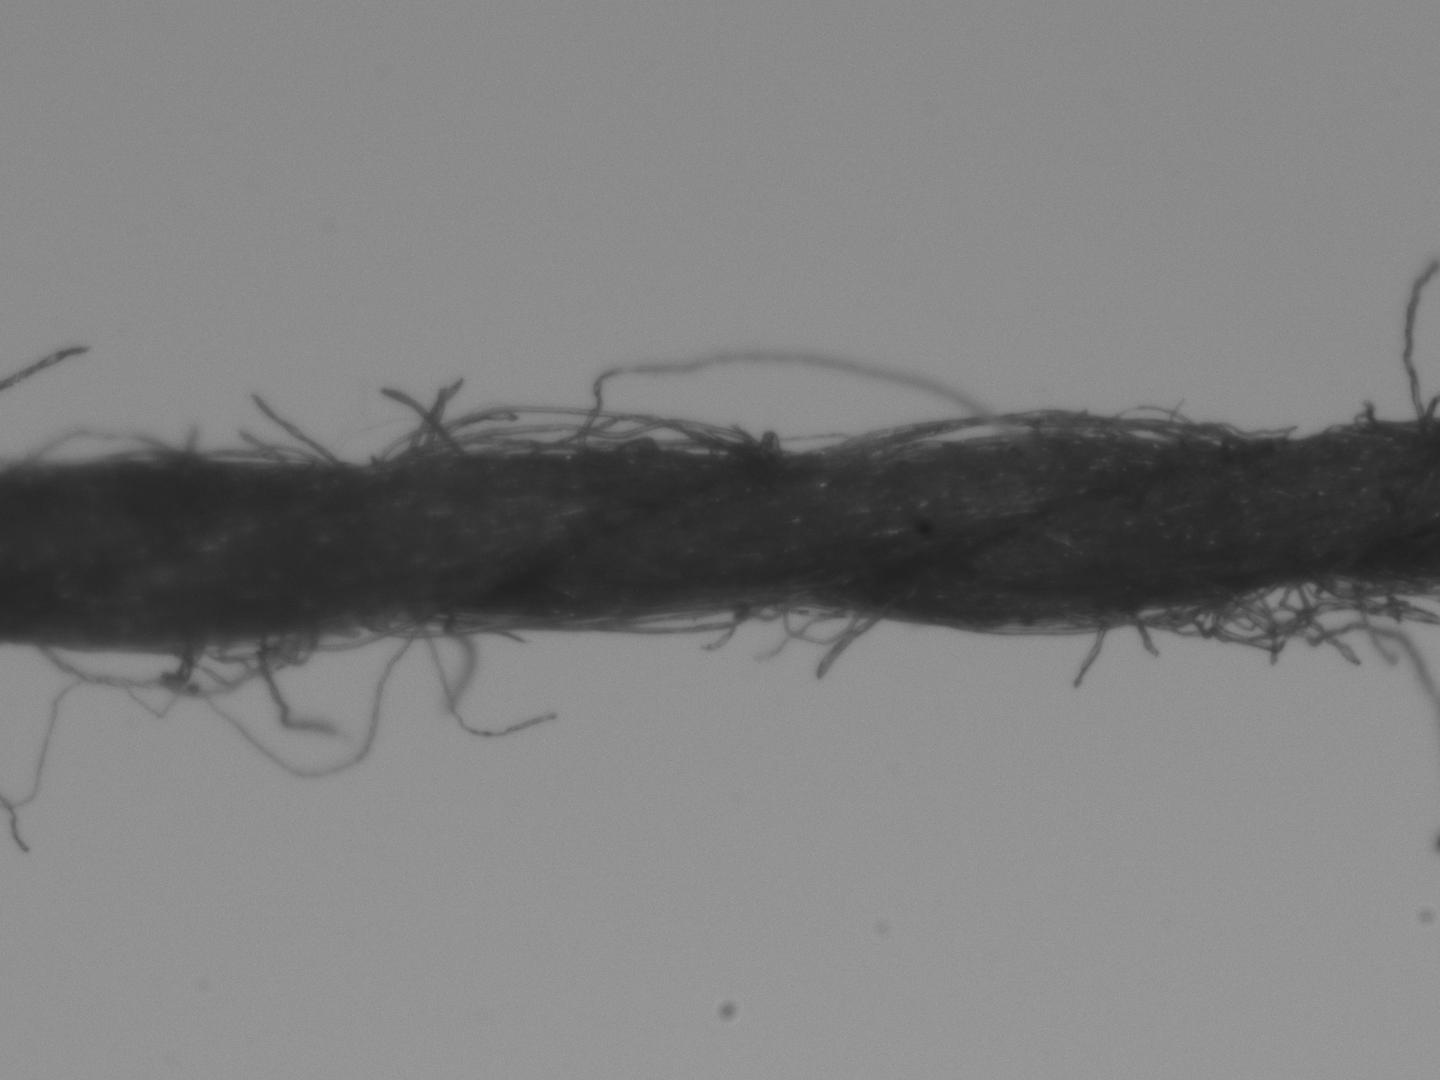loop_fiber: (378, 405, 752, 463), (854, 411, 1239, 449), (35, 647, 185, 686), (185, 625, 283, 683), (599, 599, 756, 633), (122, 445, 302, 469), (374, 613, 515, 641), (780, 601, 855, 647), (1307, 577, 1396, 600)
protruding_fiber: (416, 617, 554, 741), (255, 630, 332, 736), (380, 381, 452, 457), (252, 389, 327, 461), (1066, 608, 1112, 693), (1128, 602, 1160, 653)
